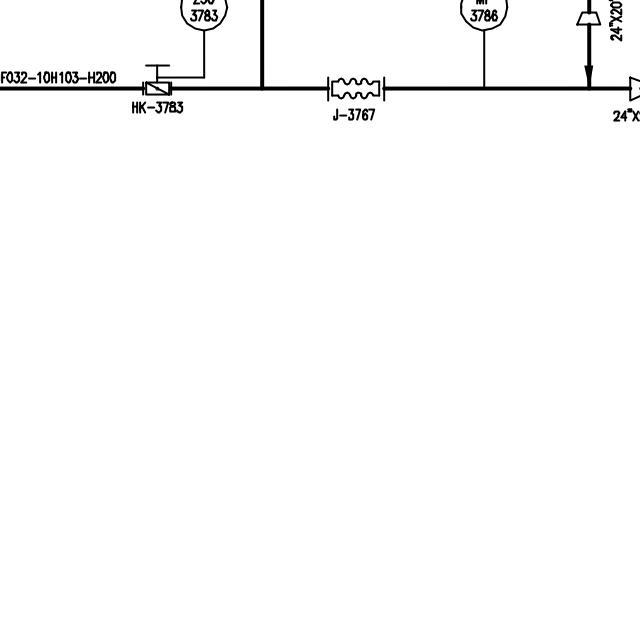BV: (140, 62, 175, 97)
EJ: (324, 72, 386, 103)
SP: (574, 9, 602, 30)
